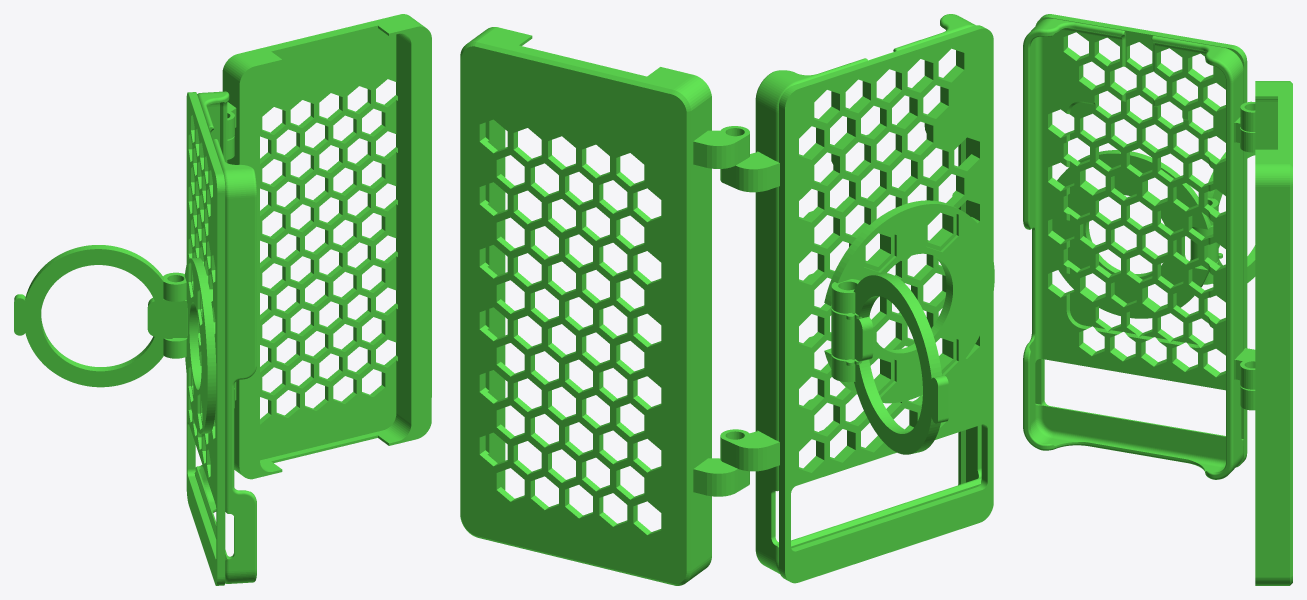
Rendered from full-deck.glb.
The picture shows the model from 3 angles, left to right: view 1: azimuth 30°, elevation 25°; view 2: azimuth 150°, elevation 25°; view 3: azimuth 270°, elevation 25°; orthographic projection. The views are drawn at different scales.
Visible parts, largest first — view 1: 04_CYBERDECK_MIT_RINGSTAND_AUF_TISCH.stl; view 2: 04_CYBERDECK_MIT_RINGSTAND_AUF_TISCH.stl; view 3: 04_CYBERDECK_MIT_RINGSTAND_AUF_TISCH.stl.
Boxes of the visible parts, <box> form: 04_CYBERDECK_MIT_RINGSTAND_AUF_TISCH.stl: <box>14,14,431,585</box>; 04_CYBERDECK_MIT_RINGSTAND_AUF_TISCH.stl: <box>460,14,994,585</box>; 04_CYBERDECK_MIT_RINGSTAND_AUF_TISCH.stl: <box>1023,14,1292,585</box>.
Bounding box in the file's own units: 159 × 155 × 90.15.
